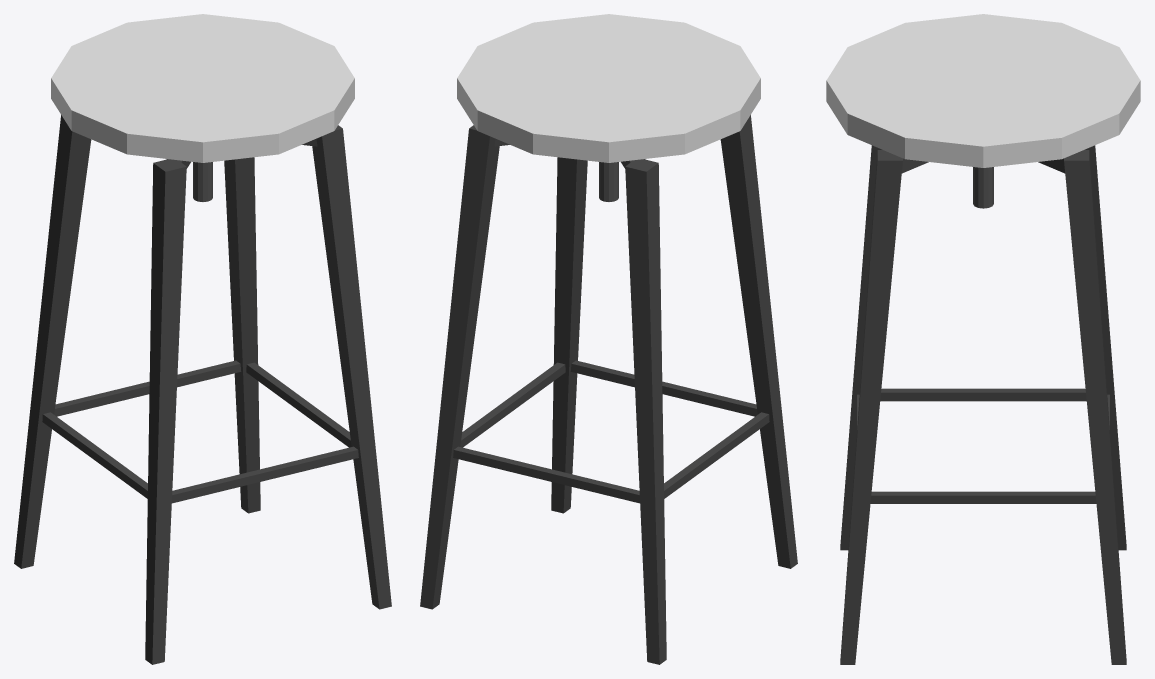
The model's file is Chair_03_C2.fbx.
The picture shows the model from 3 angles, left to right: view 1: azimuth 30°, elevation 25°; view 2: azimuth 150°, elevation 25°; view 3: azimuth 270°, elevation 25°; orthographic projection. The views are drawn at different scales.
Parts seen in each view (by area): view 1: Chair_03_C2; view 2: Chair_03_C2; view 3: Chair_03_C2.
Part boxes in pixels (bbox=[...]): Chair_03_C2: bbox=[14, 14, 391, 664]; Chair_03_C2: bbox=[420, 14, 797, 664]; Chair_03_C2: bbox=[826, 14, 1140, 664].
Size of the model in its own units: 37.05 by 68.24 by 37.05.
